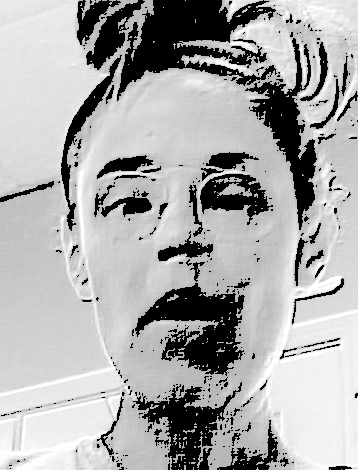nose_M_C: (151, 202, 217, 281)
